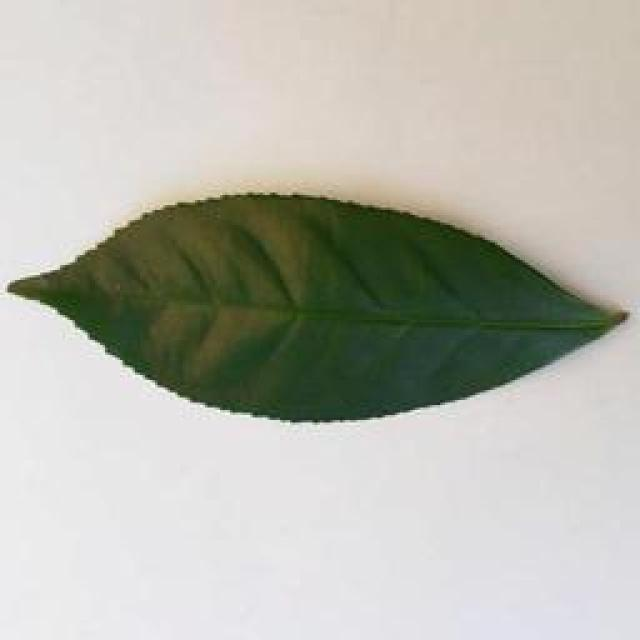Healthy: (0, 185, 640, 426)
